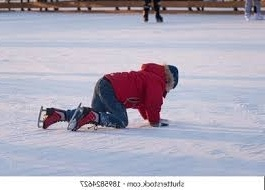not_fallen: (38, 61, 182, 135), (135, 0, 166, 23), (238, 0, 264, 21)
